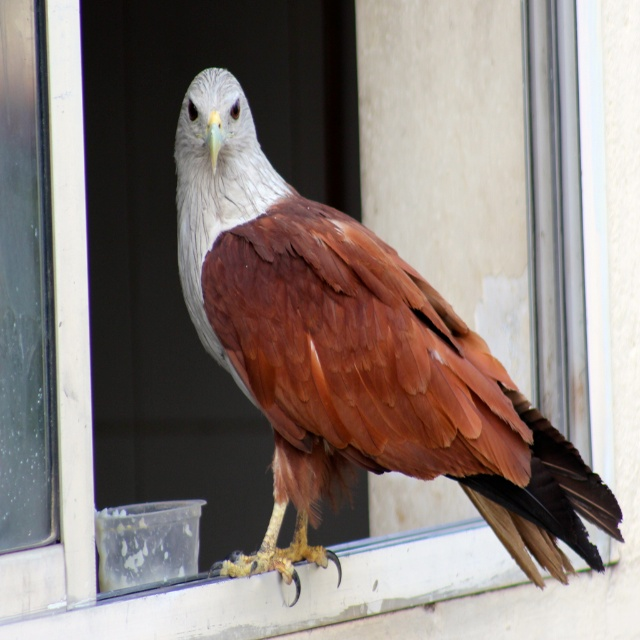Eagle: (175, 65, 630, 613)
